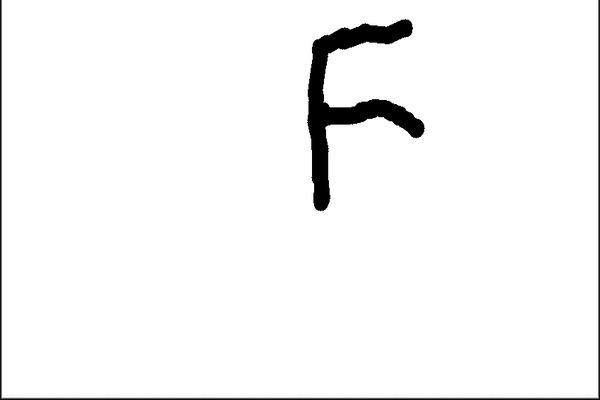F: (299, 16, 426, 213)
